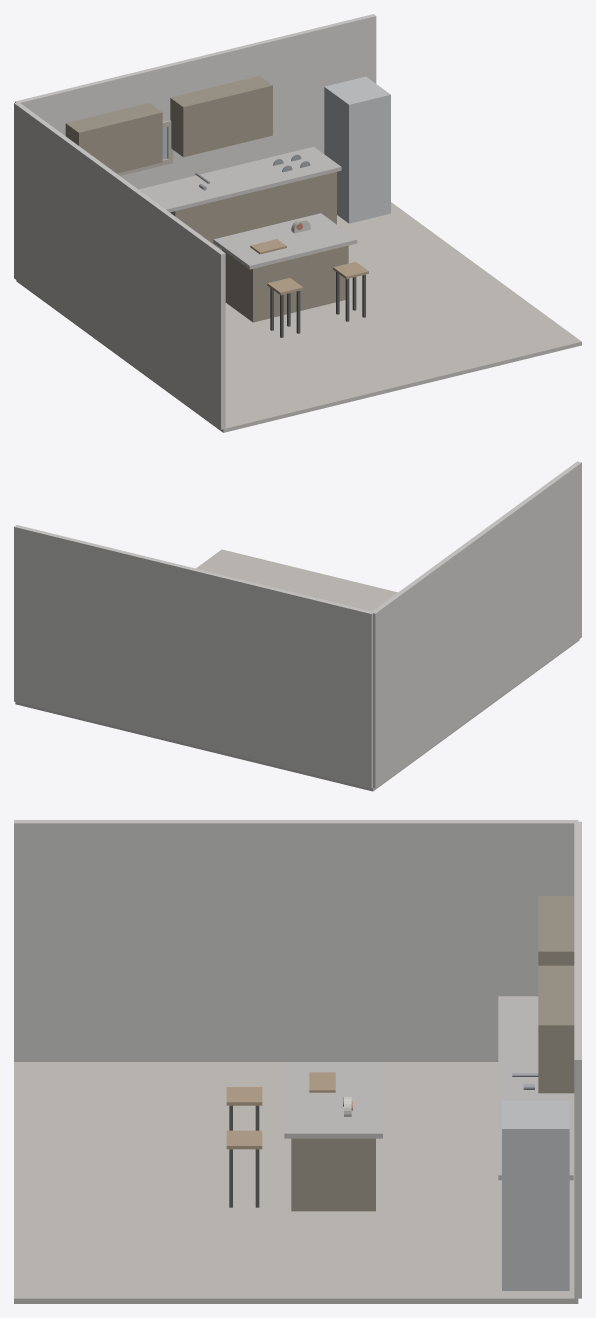
Rendered from simple_kitchen.glb.
3 renders of one model, top to bottom at view 1: azimuth 30°, elevation 25°; view 2: azimuth 150°, elevation 25°; view 3: azimuth 270°, elevation 25°, orthographic. The views are drawn at different scales.
Visible parts, largest first — view 1: floor, left_wall, back_wall, fridge, upper_right, counter_back_base, island_base, counter_back_top, upper_left, island_top; view 2: back_wall, left_wall, floor; view 3: left_wall, floor, fridge, island_top, island_base, upper_right, back_wall, counter_left_top, upper_left, counter_back_top, stool_seat_1, stool_seat_0.
Part boxes in pixels (box(x1,y1,x2,y2)): floor: box(16, 202, 581, 432); left_wall: box(14, 102, 225, 429); back_wall: box(15, 14, 376, 189); fridge: box(324, 76, 390, 223); upper_right: box(170, 76, 272, 157); counter_back_base: box(170, 172, 336, 250); island_base: box(222, 245, 348, 322); counter_back_top: box(147, 146, 341, 211); upper_left: box(65, 103, 162, 173); island_top: box(213, 213, 357, 269); back_wall: box(14, 525, 373, 788); left_wall: box(371, 461, 581, 788); floor: box(15, 549, 579, 791); left_wall: box(14, 820, 578, 1061); floor: box(14, 1062, 578, 1303); fridge: box(502, 1101, 569, 1290); island_top: box(284, 1062, 382, 1138); island_base: box(291, 1138, 375, 1211); upper_right: box(538, 965, 574, 1093); back_wall: box(574, 821, 581, 1298); counter_left_top: box(498, 996, 538, 1063); upper_left: box(538, 896, 574, 965); counter_back_top: box(498, 1064, 573, 1180); stool_seat_1: box(226, 1130, 262, 1149); stool_seat_0: box(226, 1087, 262, 1105).
Size of the model in its own units: 6.04 by 2.86 by 6.04.
